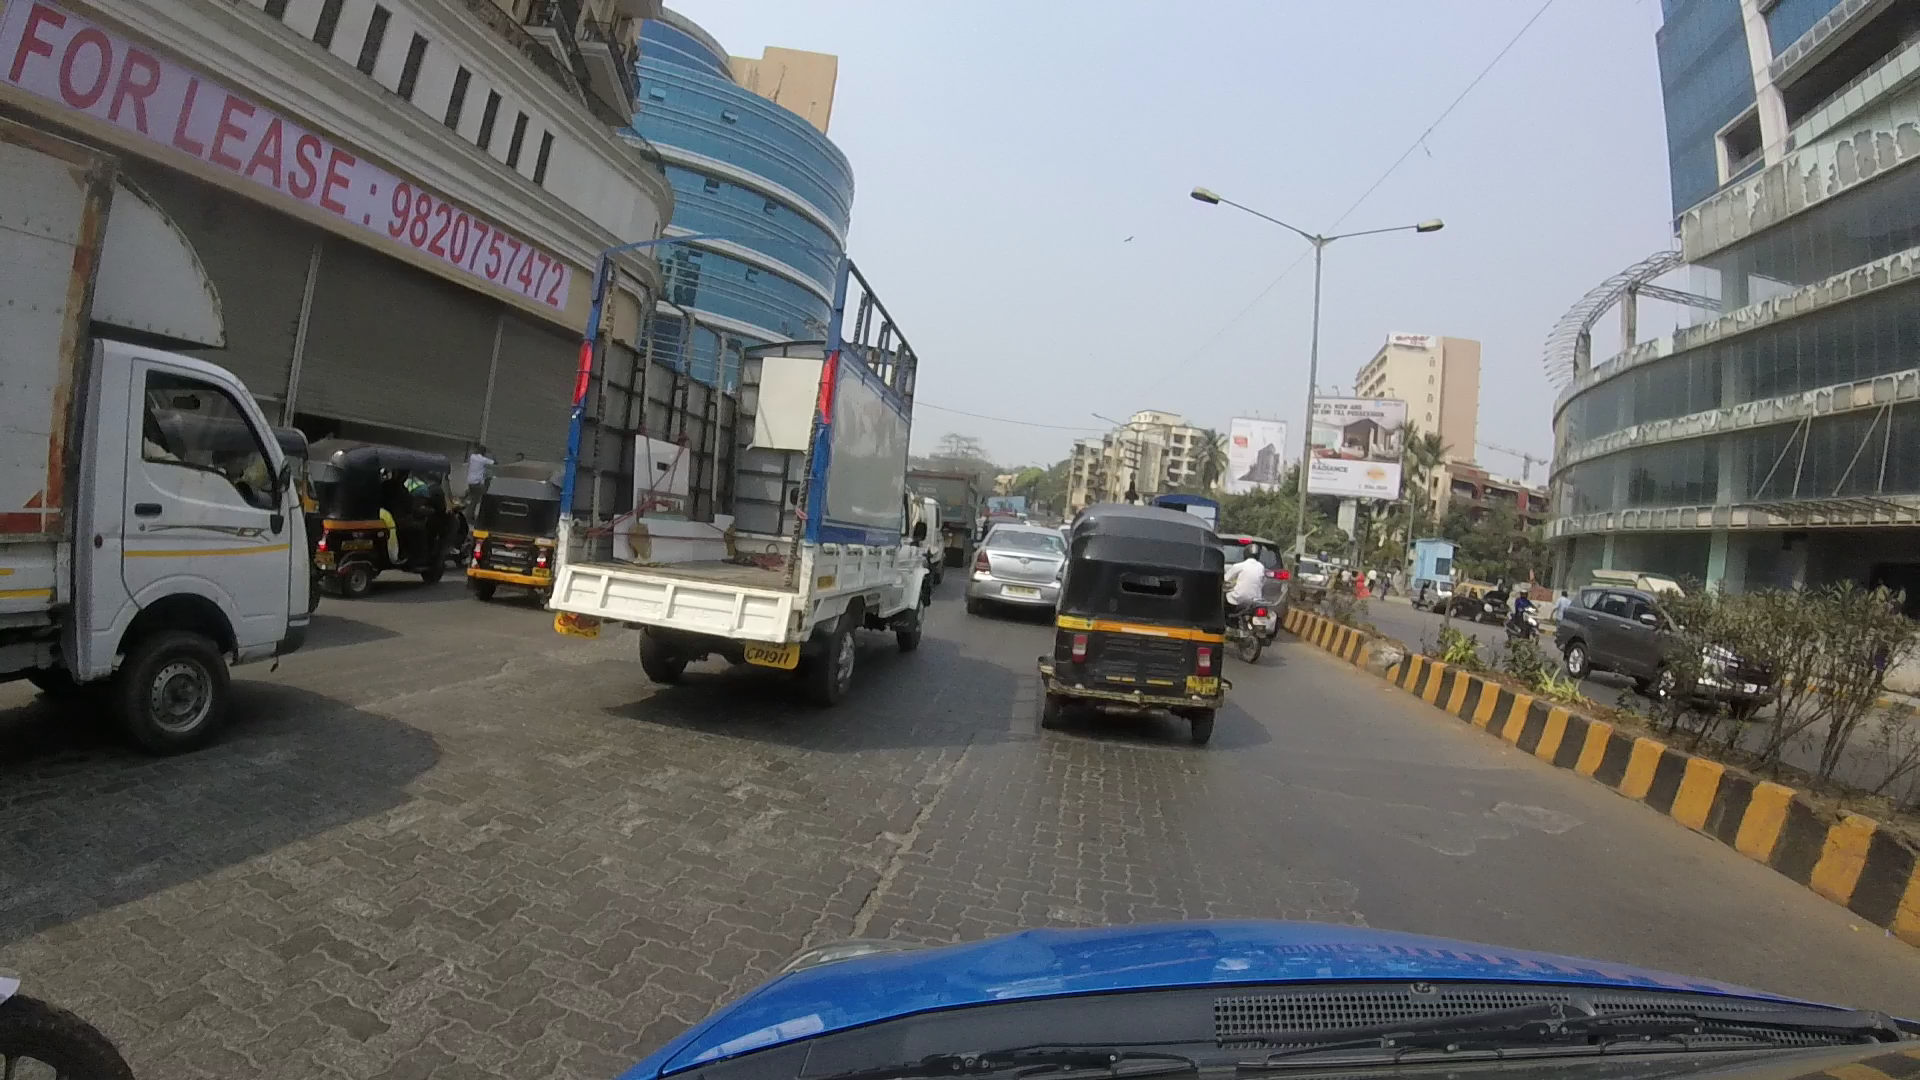bike/scooter: (1222, 556, 1284, 645)
car: (1563, 578, 1768, 713), (957, 516, 1069, 607)
rickshaw: (1046, 495, 1228, 733), (295, 433, 481, 595), (463, 472, 560, 589)
truck: (531, 239, 920, 707), (4, 145, 295, 742)
